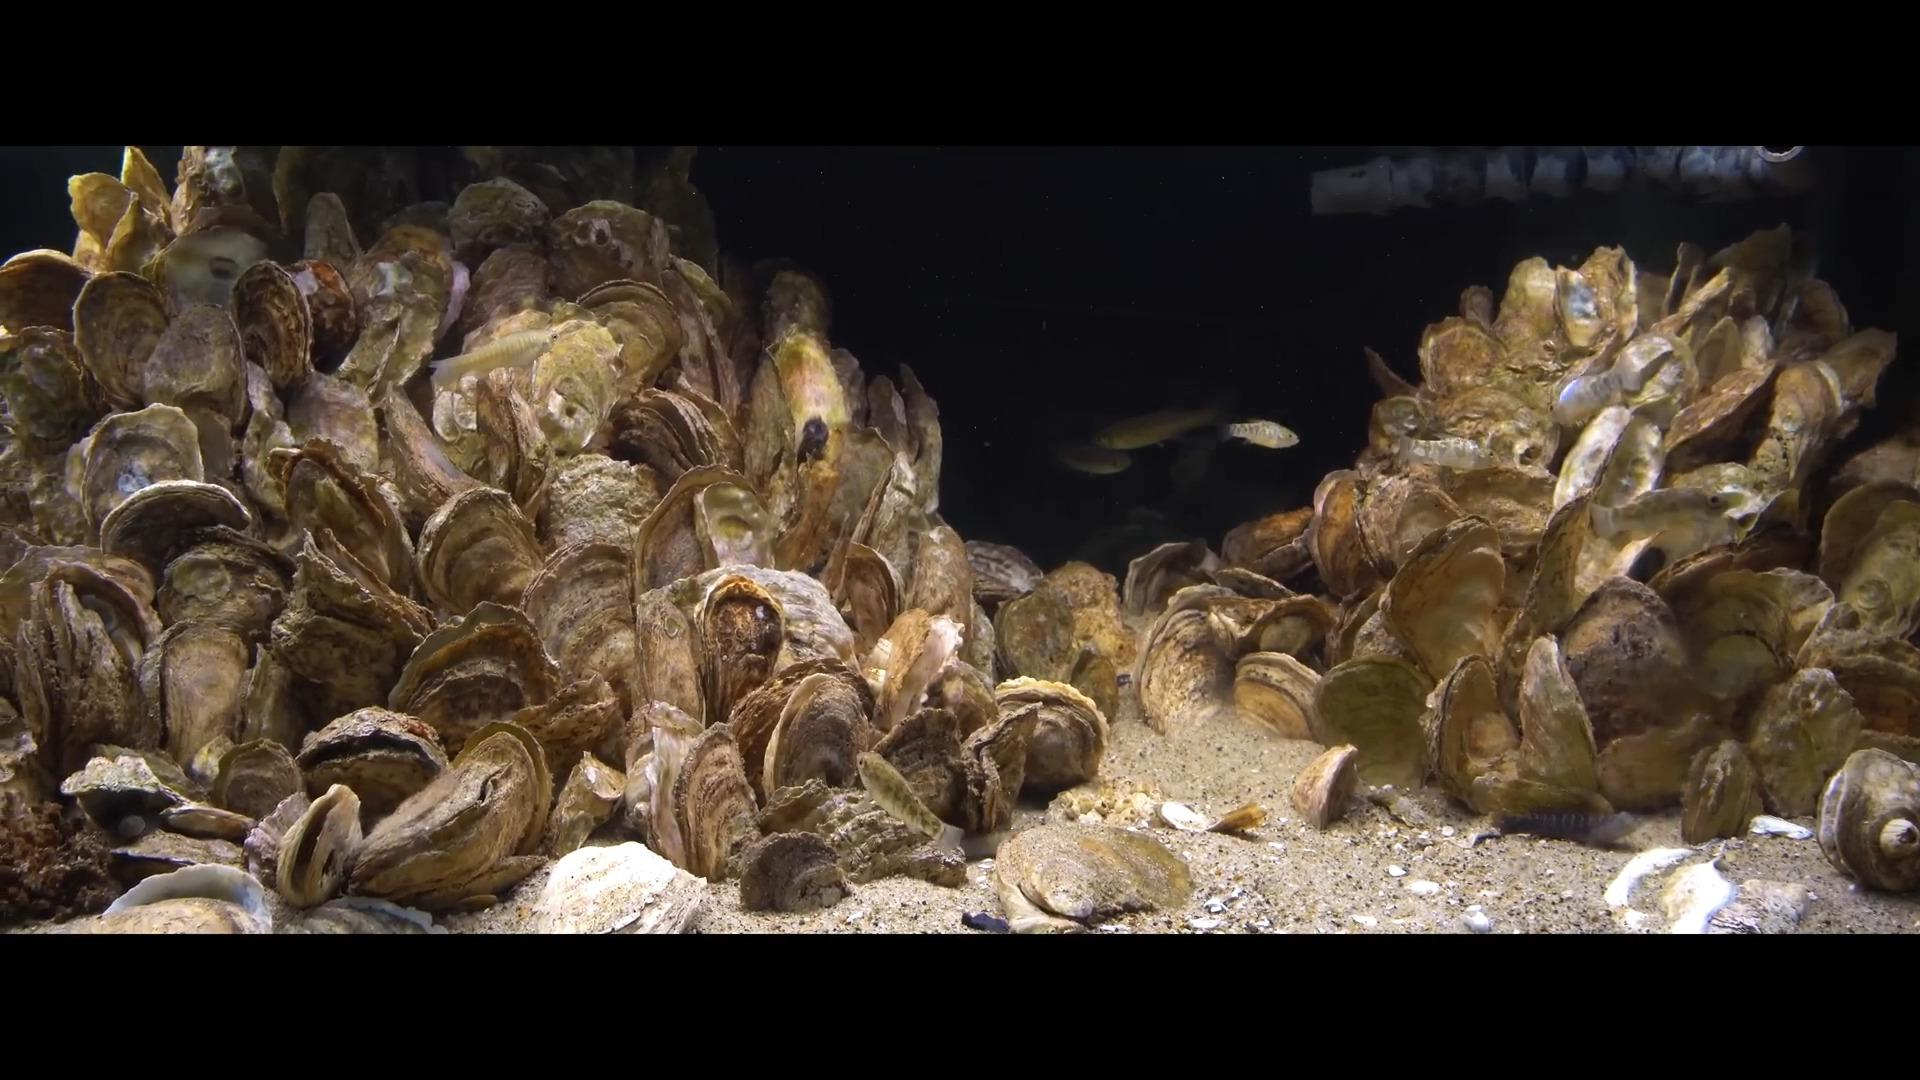Oyster: (344, 721, 558, 910), (266, 535, 434, 713), (16, 560, 156, 773), (384, 600, 563, 758), (1553, 574, 1704, 750), (264, 436, 421, 593), (1381, 512, 1516, 688), (1656, 562, 1820, 708), (757, 320, 855, 560), (520, 533, 638, 721), (471, 843, 707, 936), (633, 460, 779, 603), (996, 822, 1193, 924), (336, 240, 455, 410), (1135, 584, 1269, 733), (73, 404, 219, 534), (138, 617, 257, 778), (1499, 485, 1601, 673), (297, 707, 448, 820), (1742, 671, 1854, 824), (1348, 456, 1477, 587), (659, 717, 760, 884), (568, 276, 694, 406), (1507, 634, 1605, 802), (419, 485, 545, 613), (150, 526, 293, 638), (1813, 479, 1919, 628), (137, 295, 249, 435), (376, 377, 485, 518), (866, 702, 982, 833), (1816, 746, 1919, 894), (810, 411, 898, 583), (985, 675, 1108, 798), (1315, 657, 1429, 785), (99, 480, 251, 576), (1422, 647, 1511, 807), (525, 318, 629, 455), (1416, 381, 1555, 481), (57, 749, 210, 839), (861, 607, 963, 740), (810, 798, 957, 889), (609, 385, 736, 491), (1742, 360, 1836, 501), (1660, 357, 1779, 468), (1650, 524, 1808, 607), (280, 365, 384, 491), (543, 450, 665, 556), (543, 198, 666, 302), (74, 272, 167, 407), (765, 676, 873, 793), (473, 367, 556, 517), (1437, 464, 1567, 558), (273, 782, 364, 911), (152, 218, 272, 315), (1691, 222, 1796, 332), (232, 260, 316, 396), (65, 157, 161, 276), (0, 326, 94, 447), (1799, 601, 1917, 695), (632, 583, 704, 735), (901, 512, 976, 653), (98, 865, 273, 924), (237, 365, 303, 522), (740, 334, 799, 508), (638, 149, 719, 277), (993, 579, 1087, 688), (825, 538, 906, 662), (735, 831, 851, 916), (206, 735, 305, 829), (1680, 737, 1766, 847), (459, 241, 553, 340), (1818, 657, 1919, 749), (0, 248, 92, 347), (1822, 418, 1916, 506), (448, 177, 554, 255), (1233, 592, 1338, 669), (1569, 241, 1639, 355), (1808, 327, 1899, 414), (105, 825, 252, 880), (285, 257, 359, 364), (1309, 469, 1371, 596), (893, 356, 943, 510), (1233, 651, 1320, 737), (243, 787, 311, 895), (1125, 539, 1215, 620), (169, 144, 249, 233), (1655, 853, 1741, 935), (1419, 318, 1506, 398), (1495, 252, 1563, 355), (1226, 505, 1317, 579), (1290, 744, 1364, 832), (963, 538, 1044, 613), (761, 265, 831, 351), (0, 711, 53, 824), (294, 895, 440, 934), (299, 190, 363, 277), (1059, 646, 1121, 733), (1717, 881, 1815, 935), (1040, 560, 1122, 615)
